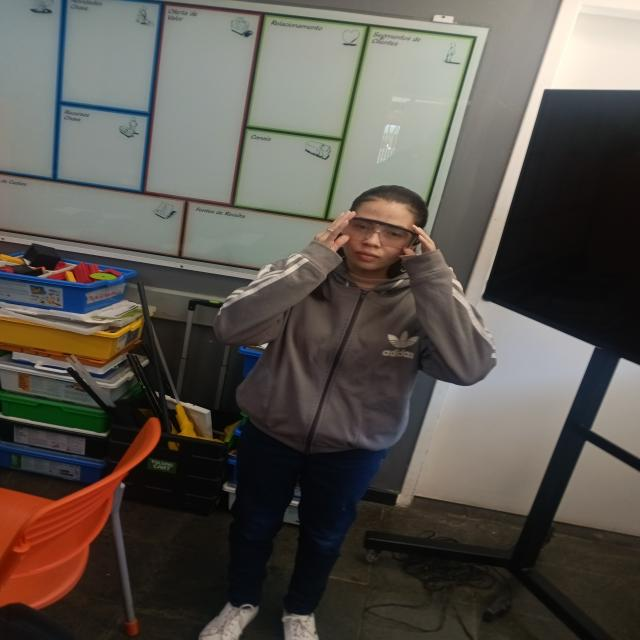oculos-epi: (345, 217, 417, 248)
